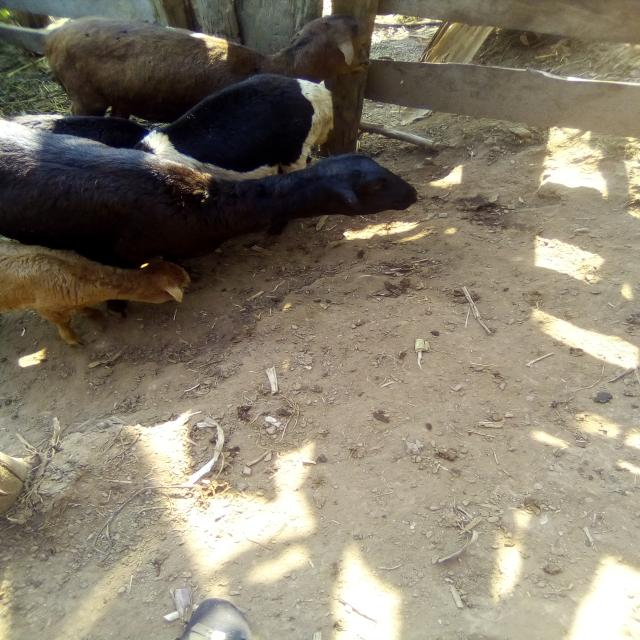sheep: (0, 98, 482, 265)
